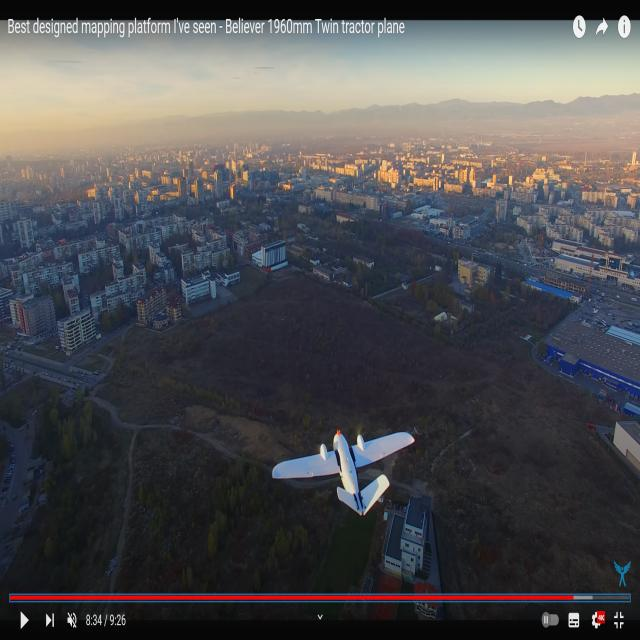iha: (266, 466, 419, 479)
